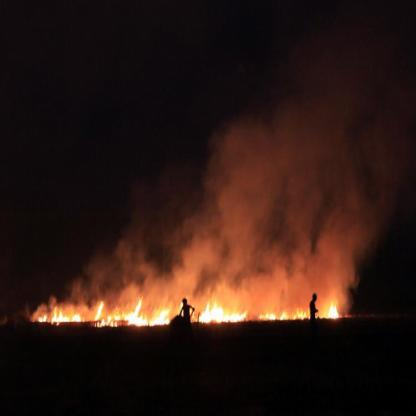fire: (39, 299, 333, 327)
